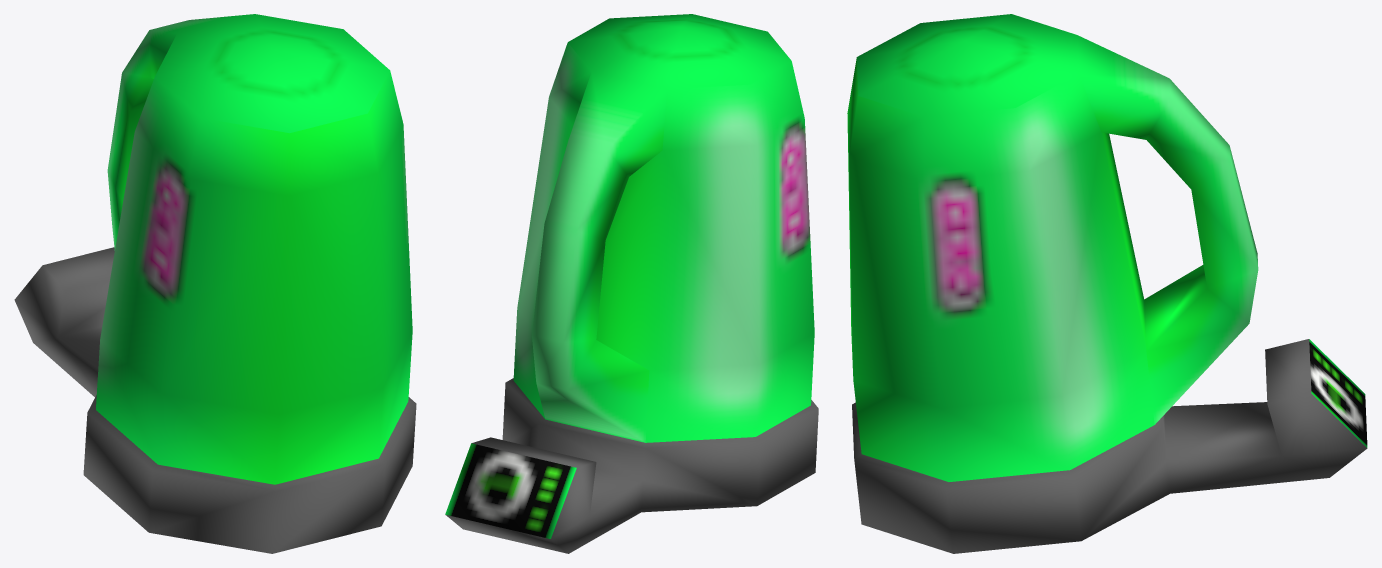
The model's file is ZombieScannerMK1.FBX.
The picture shows the model from 3 angles, left to right: view 1: azimuth 30°, elevation 25°; view 2: azimuth 150°, elevation 25°; view 3: azimuth 270°, elevation 25°; orthographic projection. The views are drawn at different scales.
Parts seen in each view (by area): view 1: FlashLight; view 2: FlashLight; view 3: FlashLight.
Boxes of the visible parts, x1,y1,x2,y2 form: FlashLight: (14, 14, 416, 553); FlashLight: (445, 14, 818, 553); FlashLight: (847, 14, 1367, 553).
Bounding box in the file's own units: 0.0981 × 0.1578 × 0.1631.
